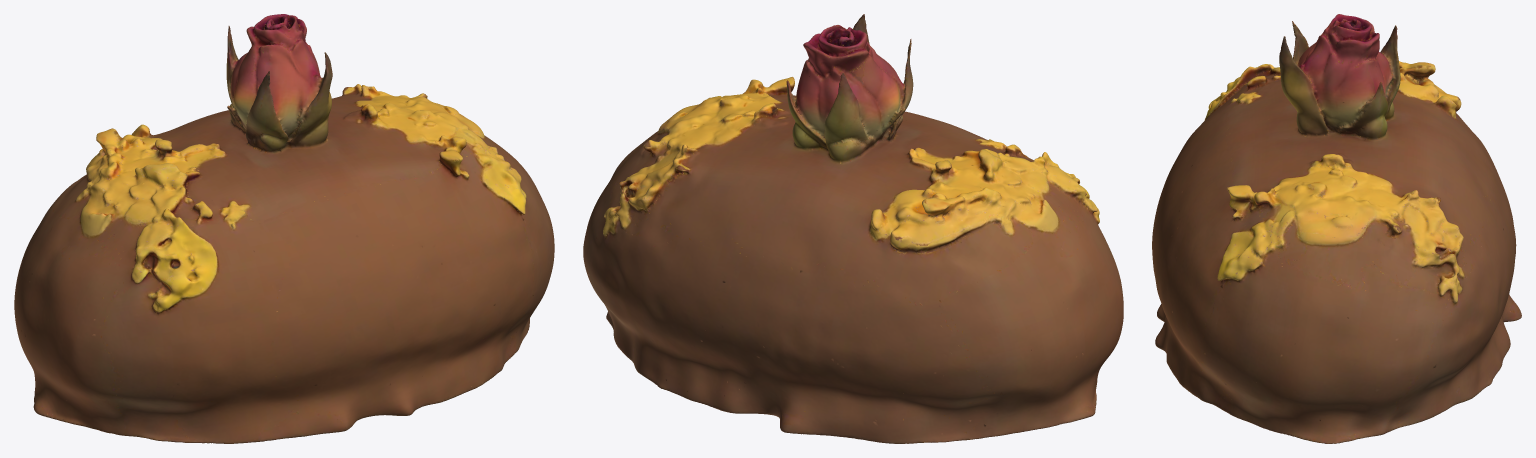
Rendered from crunchy-gianduja.glb.
3 views of the same model, side by side, from view 1: azimuth 30°, elevation 25°; view 2: azimuth 150°, elevation 25°; view 3: azimuth 270°, elevation 25° (orthographic). The views are drawn at different scales.
Size of the model in its own units: 2 by 1.29 by 1.37.
Materials: 1 (1 with a texture image).
